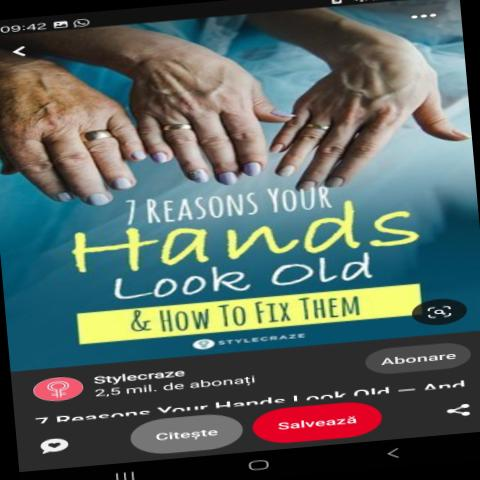hands: (255, 34, 480, 253), (131, 55, 297, 198), (0, 67, 140, 232), (252, 251, 294, 256)
